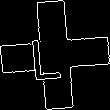L_N: (37, 28, 73, 82)
